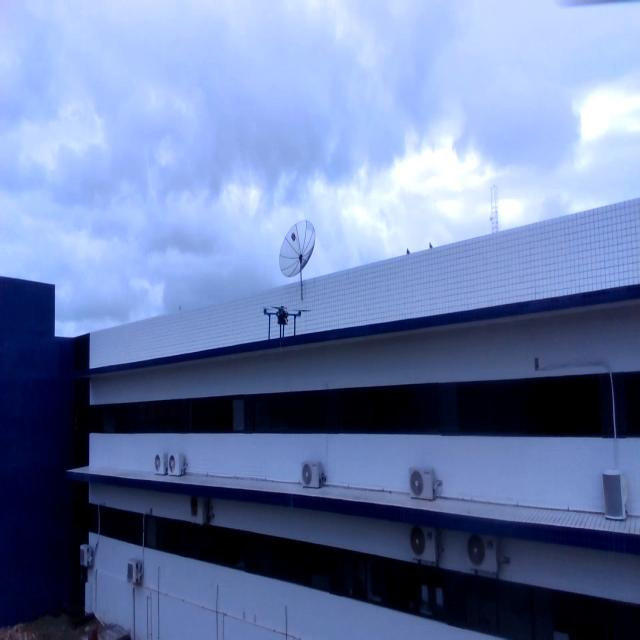-uav-: (262, 298, 312, 345)
